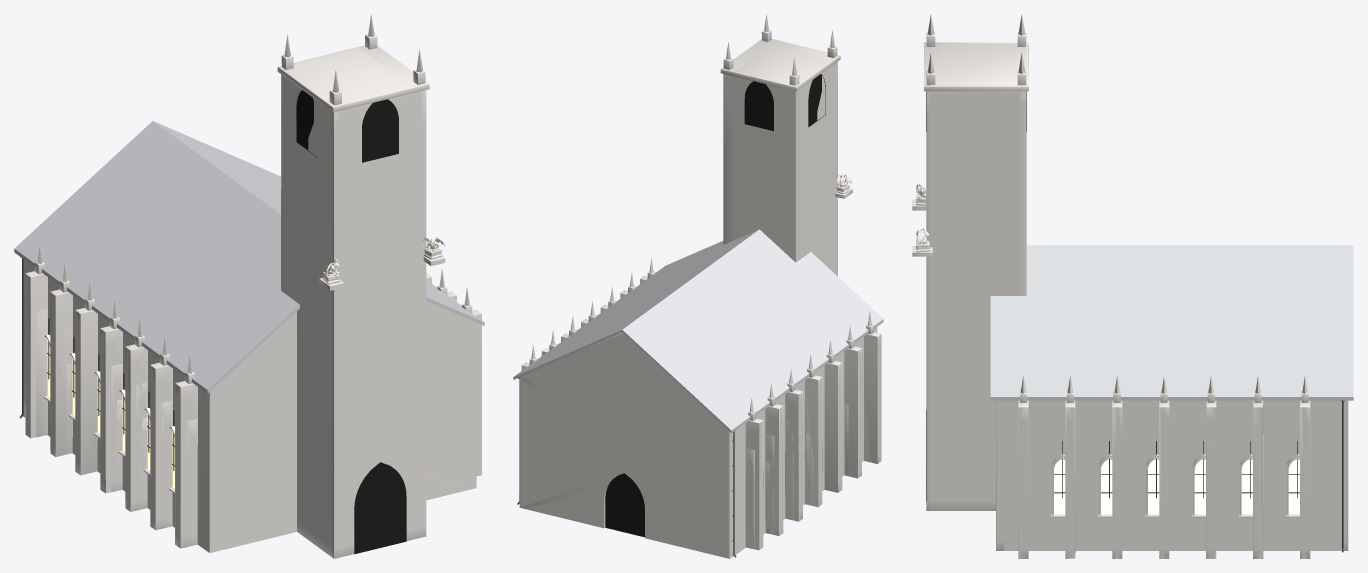
Rendered from organ-tower.glb.
3 renders of one model, left to right at view 1: azimuth 30°, elevation 25°; view 2: azimuth 150°, elevation 25°; view 3: azimuth 270°, elevation 25°, orthographic. The views are drawn at different scales.
Parts seen in each view (by area): view 1: firstcong_wall, firstcong_roof, firstcong_shadow, firstcong_trim, firstcong_glass, merged_firstcong_trim, detail_firstcong_frame; view 2: firstcong_wall, firstcong_roof, firstcong_shadow, firstcong_trim; view 3: firstcong_wall, firstcong_roof, firstcong_trim, firstcong_glass, merged_firstcong_trim.
Boxes of the visible parts, x1,y1,x2,y2 form: firstcong_wall: (23, 48, 481, 558); firstcong_roof: (14, 121, 484, 393); firstcong_shadow: (296, 90, 406, 554); firstcong_trim: (35, 14, 472, 408); firstcong_glass: (47, 340, 174, 488); merged_firstcong_trim: (43, 237, 445, 493); detail_firstcong_frame: (47, 318, 174, 470); firstcong_wall: (519, 45, 881, 558); firstcong_roof: (513, 229, 883, 433); firstcong_shadow: (605, 74, 825, 537); firstcong_trim: (529, 14, 873, 420); firstcong_wall: (926, 43, 1348, 558); firstcong_roof: (990, 245, 1353, 400); firstcong_trim: (912, 14, 1308, 469); firstcong_glass: (1054, 459, 1299, 514); merged_firstcong_trim: (916, 183, 1299, 517).
Size of the model in its own units: 20.9 by 32.22 by 28.2.
